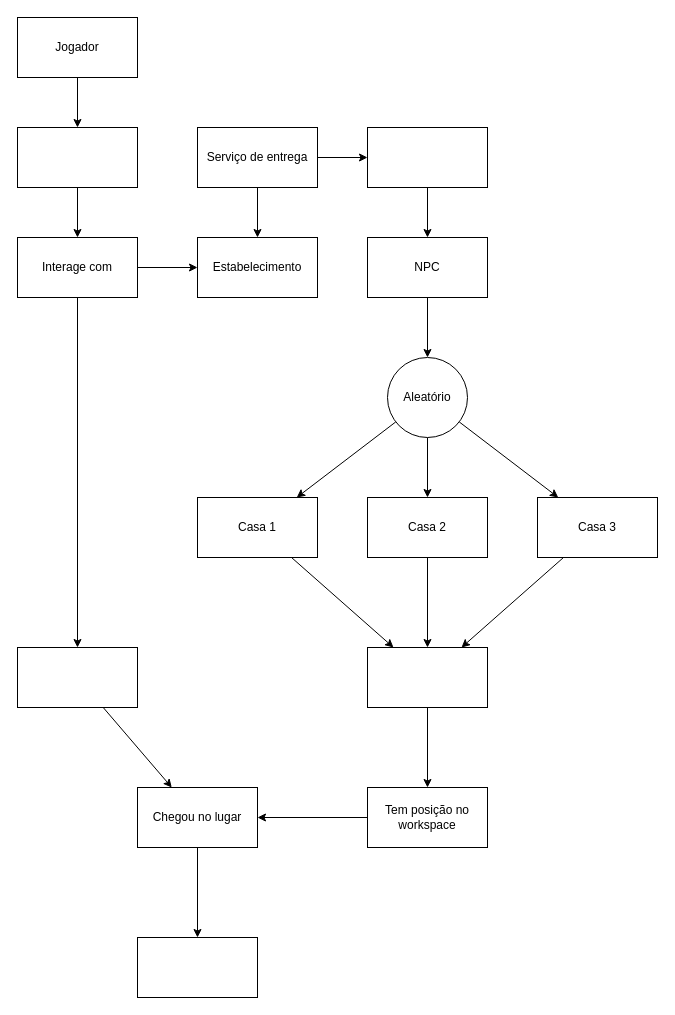
The diagram is 675 pixels wide and 1015 high, and some of its shapes have lost their labels. Here are the shapes that lost their labels. From the top down, the box of each, then its label:
(16, 126, 138, 188): Spawnou
(366, 126, 488, 188): Spawna
(16, 646, 138, 708): Casa do NPC
(366, 646, 488, 708): Char do NPC
(136, 936, 258, 998): Função que finaliza
